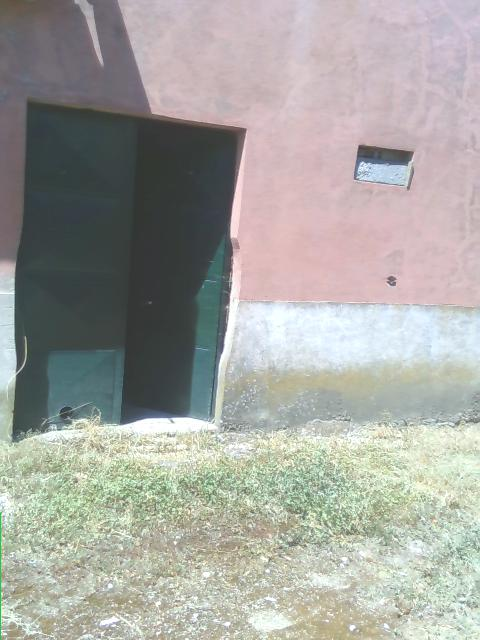semi_door: (12, 95, 247, 432)
